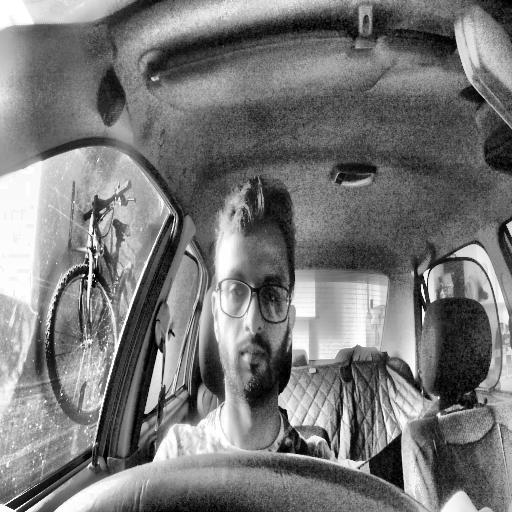awake: (210, 177, 298, 410)
